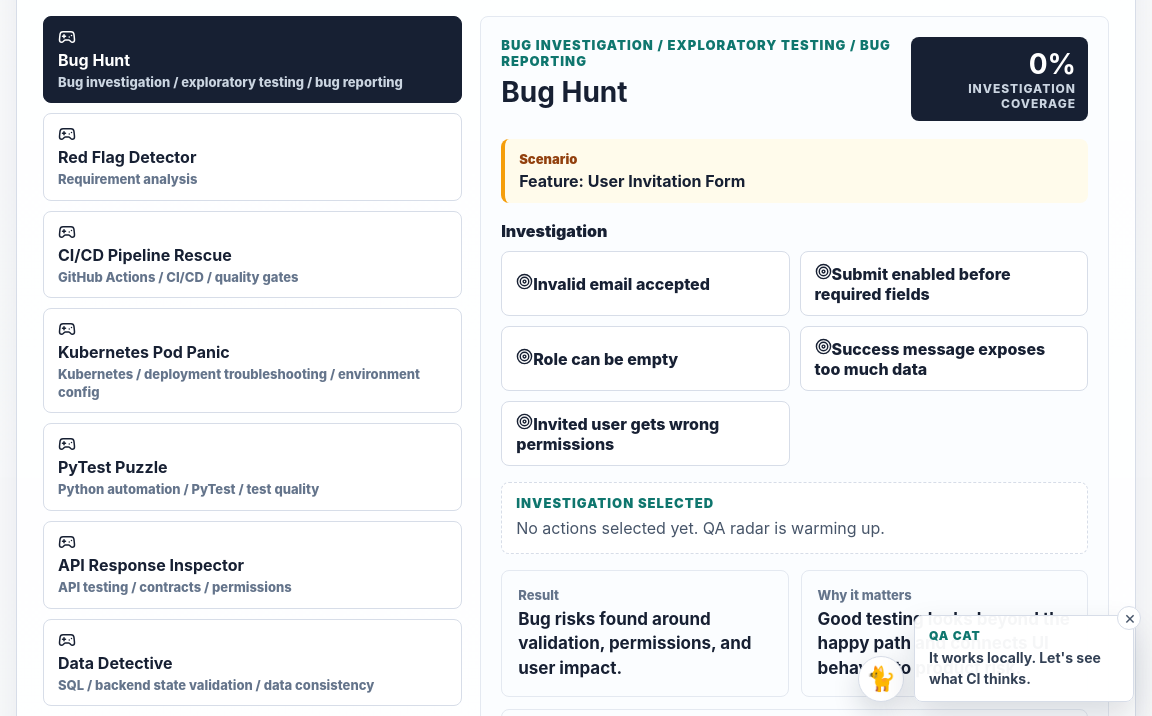
Test: Galina QA Control Center UI › supports QA Arcade game selection and investigation choices
This screenshot has width=1152, height=716.
(page scrolled)
Click the button "Kubernetes Pod Panic" at (144, 352), box [43, 308, 462, 414]
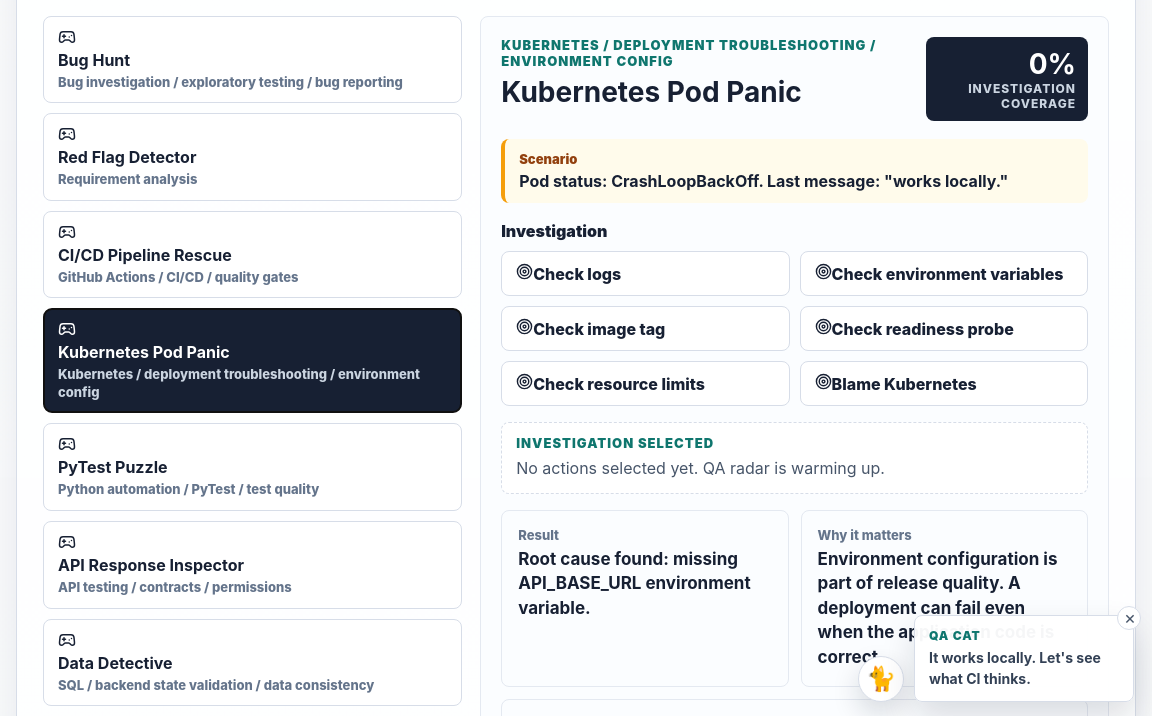
Click the button "Check logs" at (577, 274), box [501, 251, 790, 296]
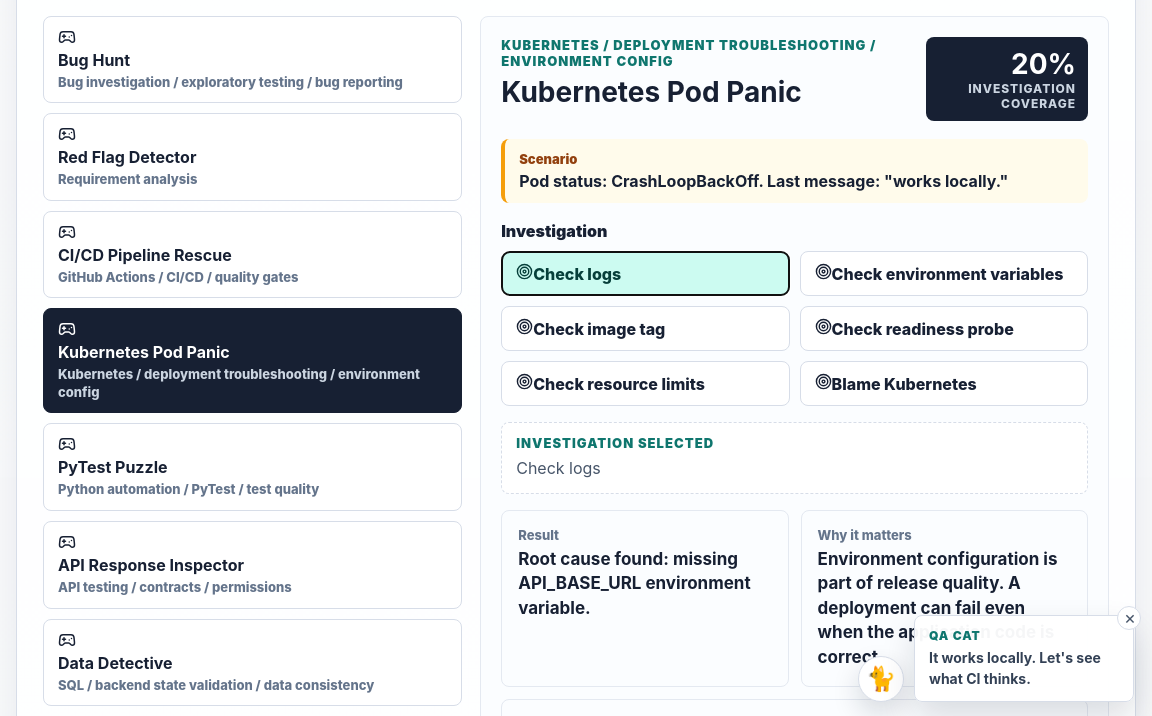
Click the button "Check environment variables" at (944, 273), box [800, 251, 1088, 296]
(page scrolled)
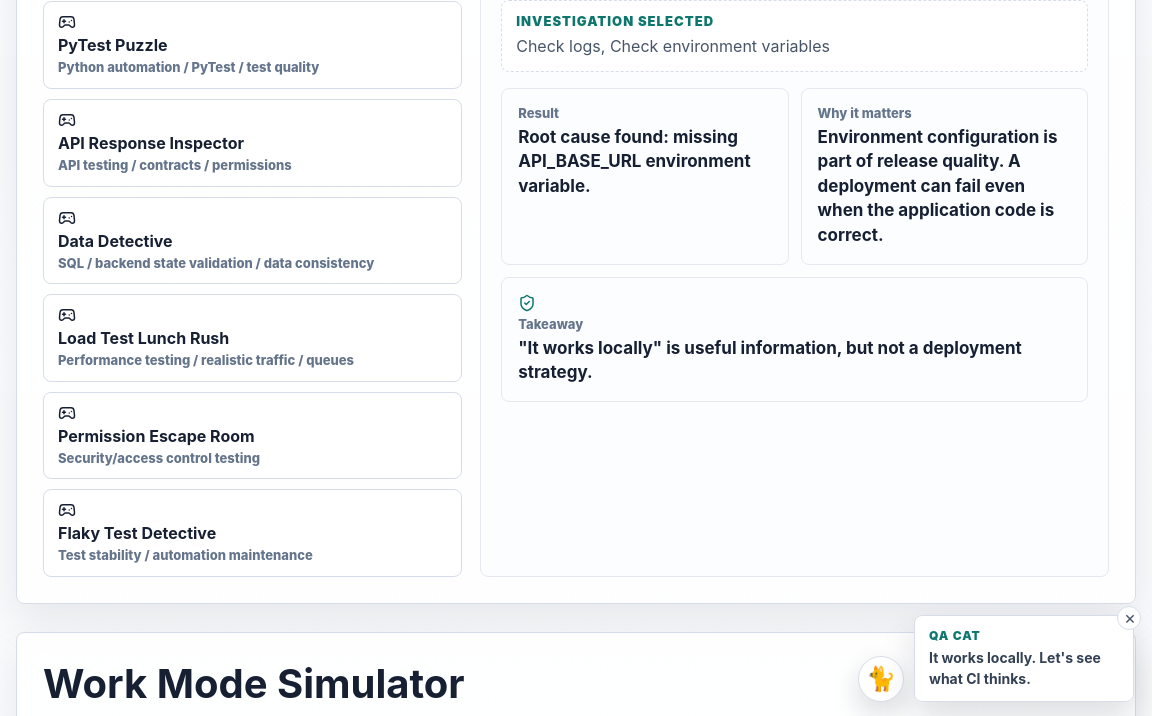
Expected: the text "Root cause found: missing API_BASE_URL environment variable." is shown, [518, 124, 772, 198]
Expected: the text "Environment configuration is part of release quality" is shown, [818, 126, 1057, 245]
Expected: the text "Check logs, Check environment variables" is shown, [516, 36, 830, 56]
